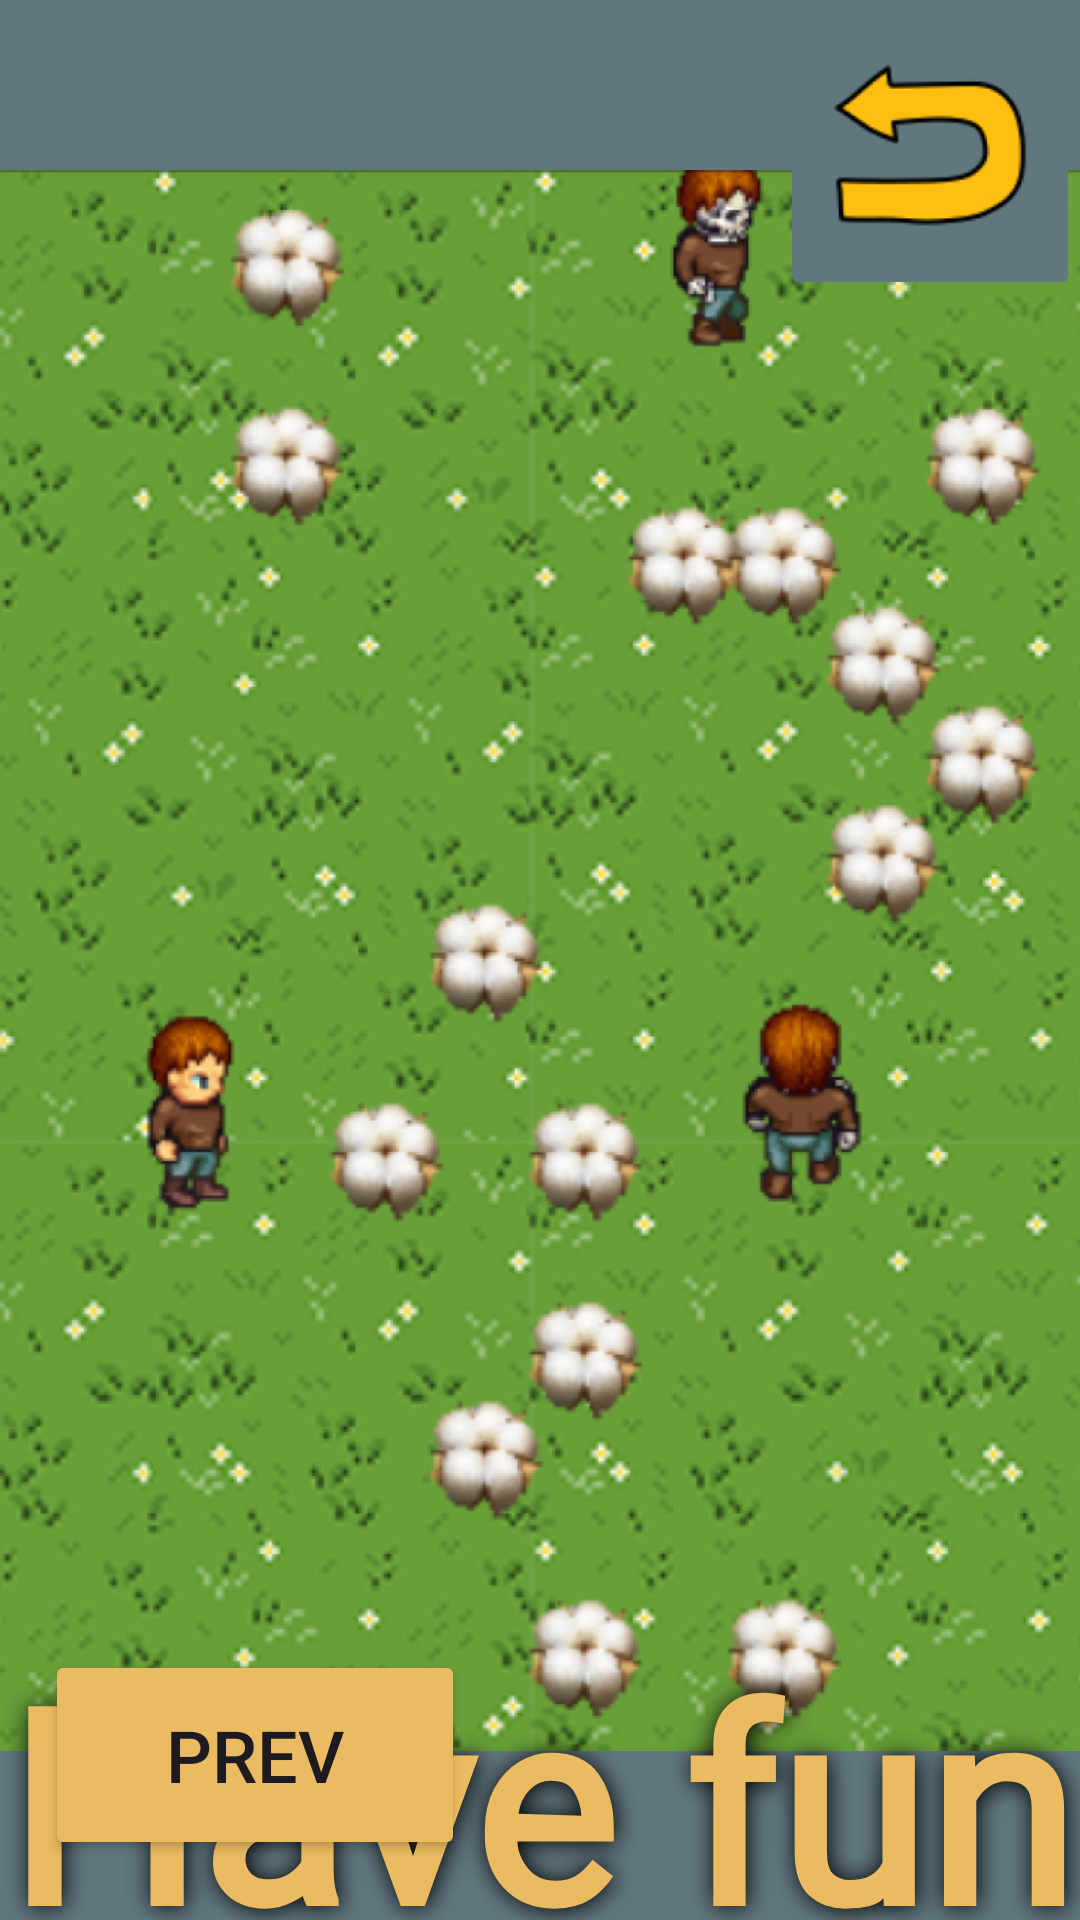

Screen size 1080 × 1920. Icon name, then its box in pixels as [left=x1, top=y1, right=x2, bottom=y2]:
backarrowbabus: [left=780, top=0, right=1080, bottom=300]
